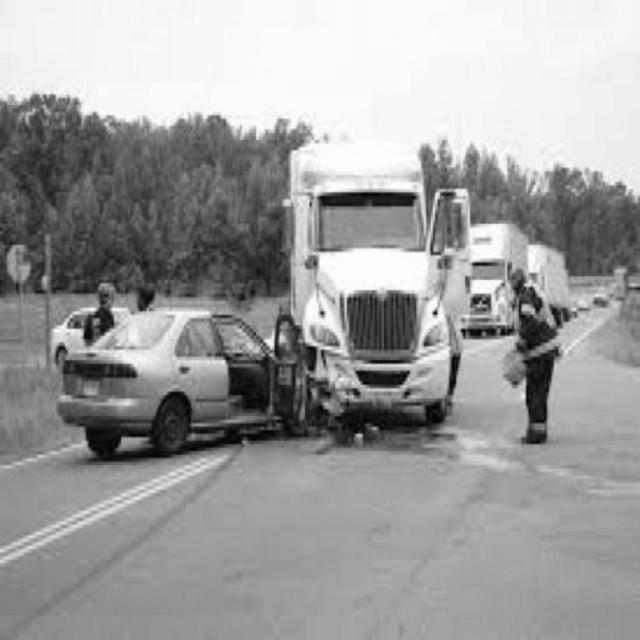accident: (60, 148, 462, 452)
person: (492, 262, 570, 446), (84, 265, 128, 348)
vehicle: (463, 223, 544, 331)
